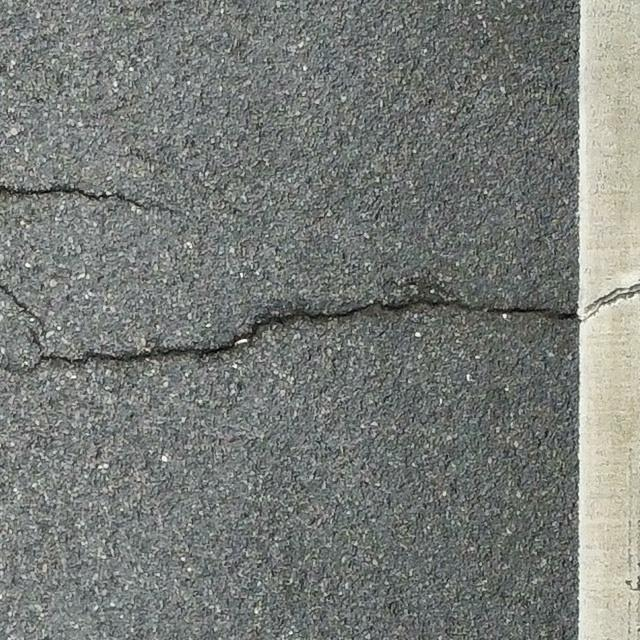TransverseCrack: (1, 285, 639, 378), (1, 184, 189, 216)
